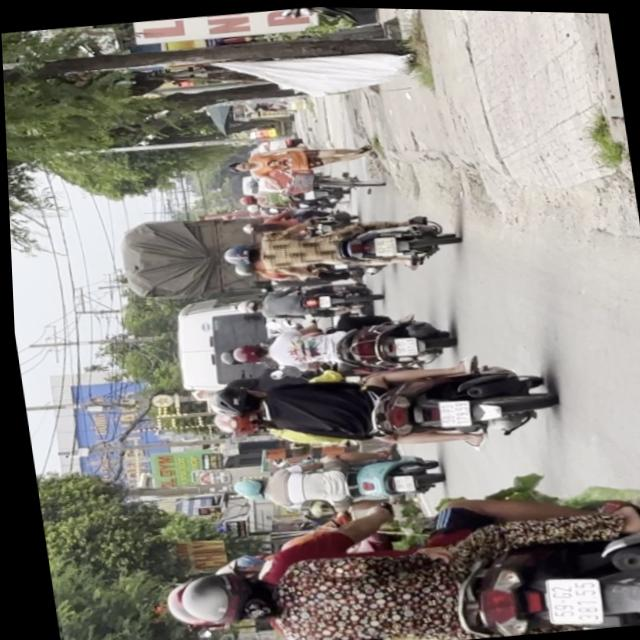helmet: (171, 562, 275, 631), (201, 381, 259, 417), (206, 406, 265, 438), (227, 340, 268, 364), (217, 243, 256, 267)
licenseplate: (142, 448, 640, 640), (197, 341, 559, 473), (212, 204, 460, 291), (222, 301, 455, 386)
nohelmet: (537, 574, 597, 626), (433, 397, 468, 425), (388, 334, 415, 355), (370, 234, 395, 254)
